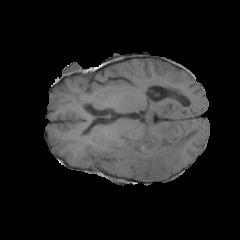glioma: (105, 124, 198, 181)
